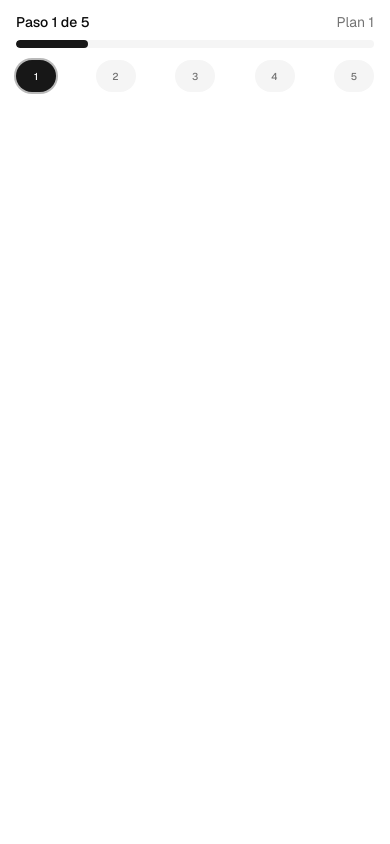
OdysseyProgress › Unsaved changes behavior › shows unsaved changes dialog when navigating with dirty state
// Navigate to any step
Click the button named "Plan 2". click: (116,76)
box: [96, 60, 136, 92]
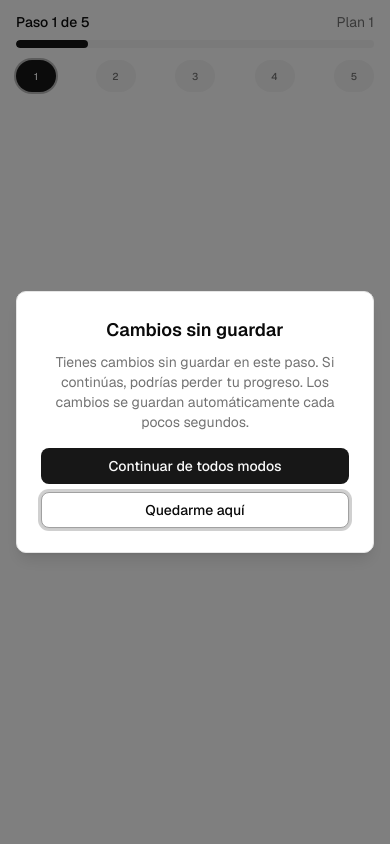
expect the heading "Cambios sin guardar" is shown: met, box [106, 318, 284, 341]
